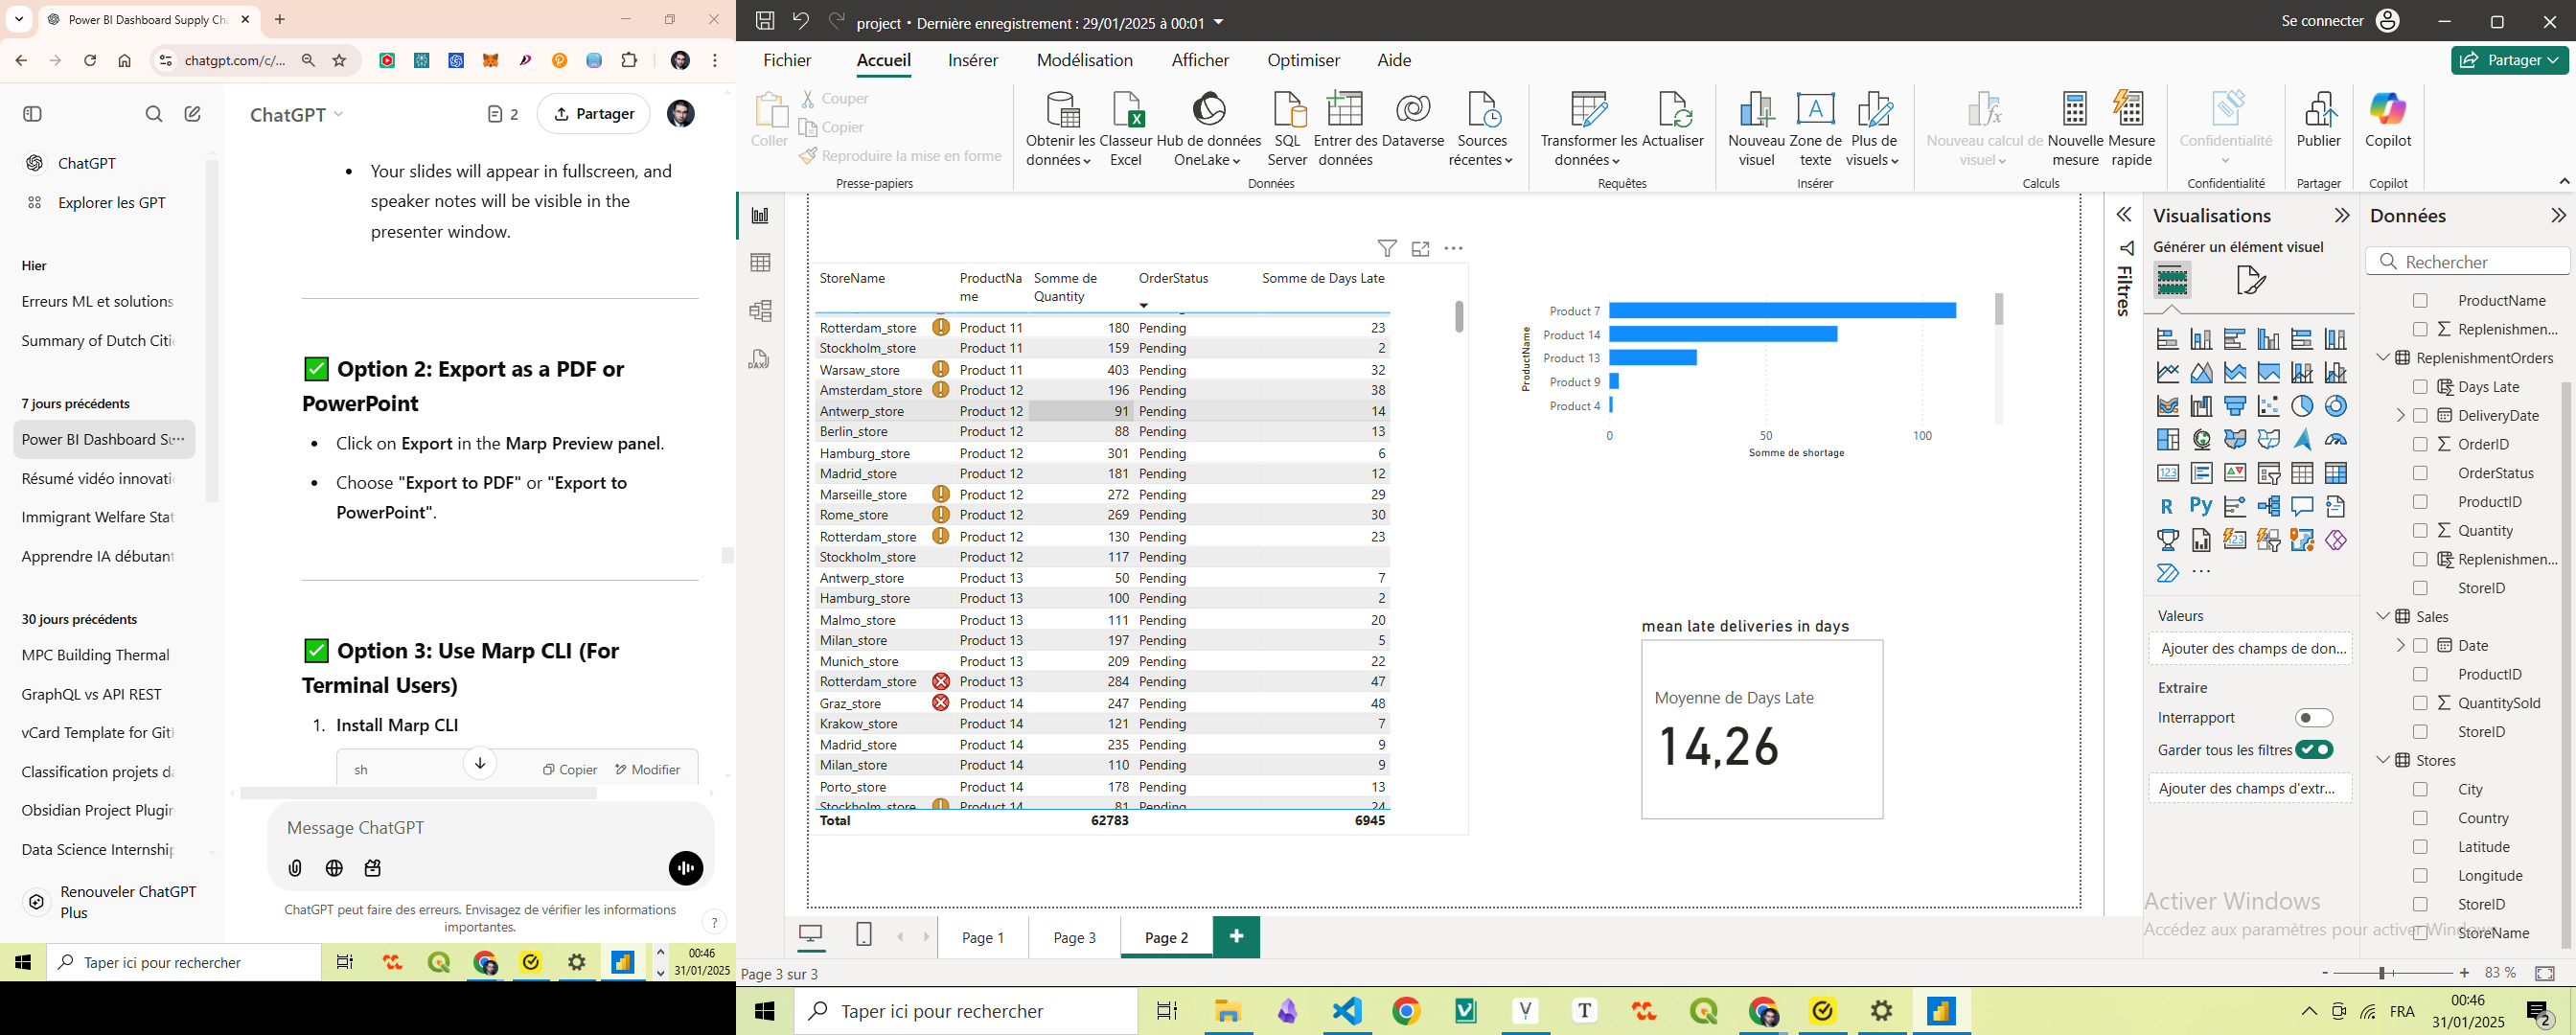

Layout of this report page (visuals, bound fields, positions):
{"tool":"powerbi","page":{"name":"Page 2","canvas":[1280,720],"ordinal":2},"visuals":[{"type":"cardVisual","title":"mean late deliveries in days","fields":{"Data":["Avg(ReplenishmentOrders.Days Late)"]},"box":[833.7,427.1,254.6,211.1],"z":0},{"type":"barChart","title":"Overview of shortages per product","fields":{"Category":["Products.ProductName"],"Y":["Sum(Inventory.PénurieParMagasin)"]},"box":[711.8,89.3,495.8,184.6],"z":1000},{"type":"tableEx","fields":{"Values":["Stores.StoreName","Products.ProductName","Sum(ReplenishmentOrders.Quantity)","ReplenishmentOrders.OrderStatus","Sum(ReplenishmentOrders.Days Late)"]},"box":[0,71.2,664.7,576.7],"z":2000}]}

Visuals, with their boxes on the page's 1280x720 design canvas (x1, y1, x2, y2). These are canvas units, not pixel positions in the 2576x1035 screenshot, which may show the page scaled, cropped or inside an application window:
"mean late deliveries in days" cardVisual: <region>834, 427, 1088, 638</region>
"Overview of shortages per product" barChart: <region>712, 89, 1208, 274</region>
tableEx - Stores.StoreName x Products.ProductName: <region>0, 71, 665, 648</region>
